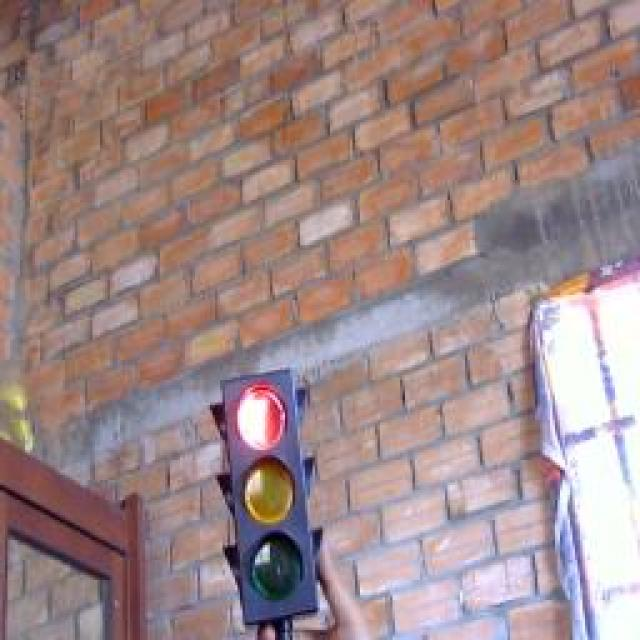-: (229, 373, 301, 458)
